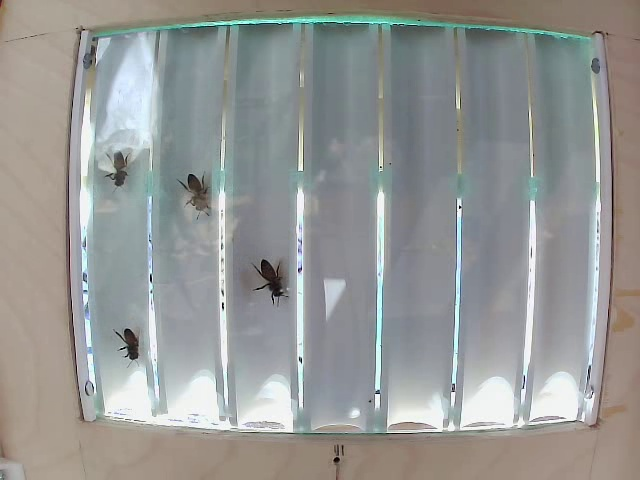bee: (248, 242, 295, 314), (113, 309, 154, 371), (173, 175, 218, 231), (94, 143, 141, 189)
